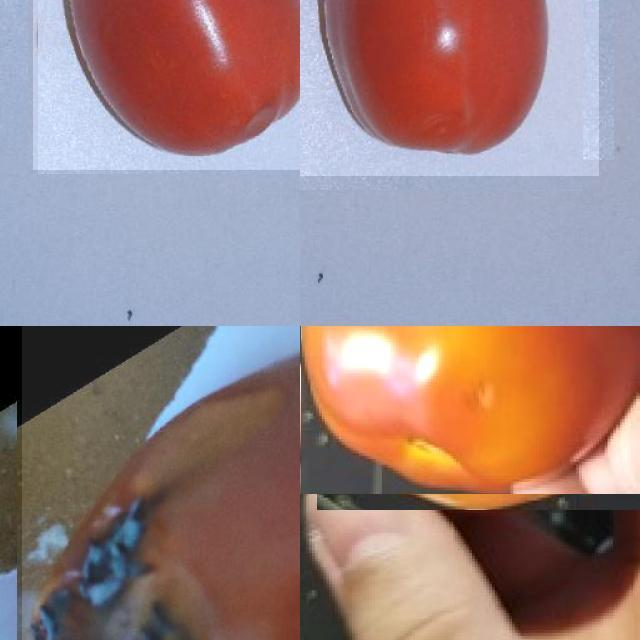Fresh Tomato: (301, 326, 640, 494), (300, 0, 598, 175), (33, 0, 300, 169)
Rotten Tomato: (22, 326, 300, 640)
